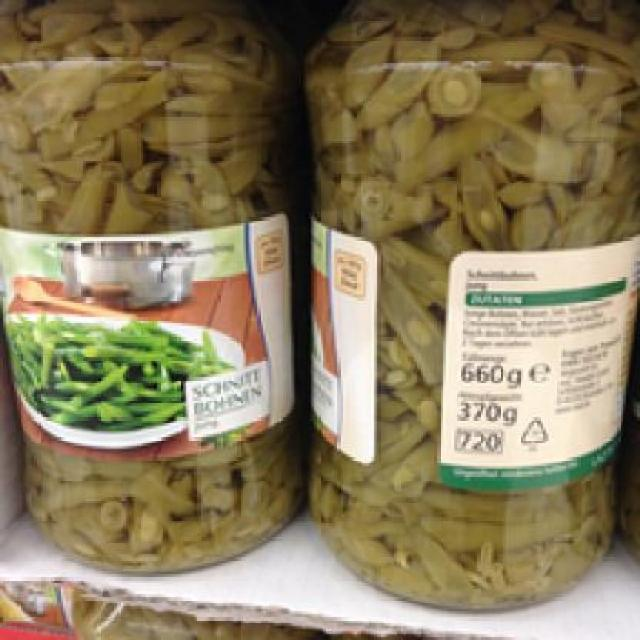Beans: (300, 2, 629, 618), (0, 0, 297, 577)
